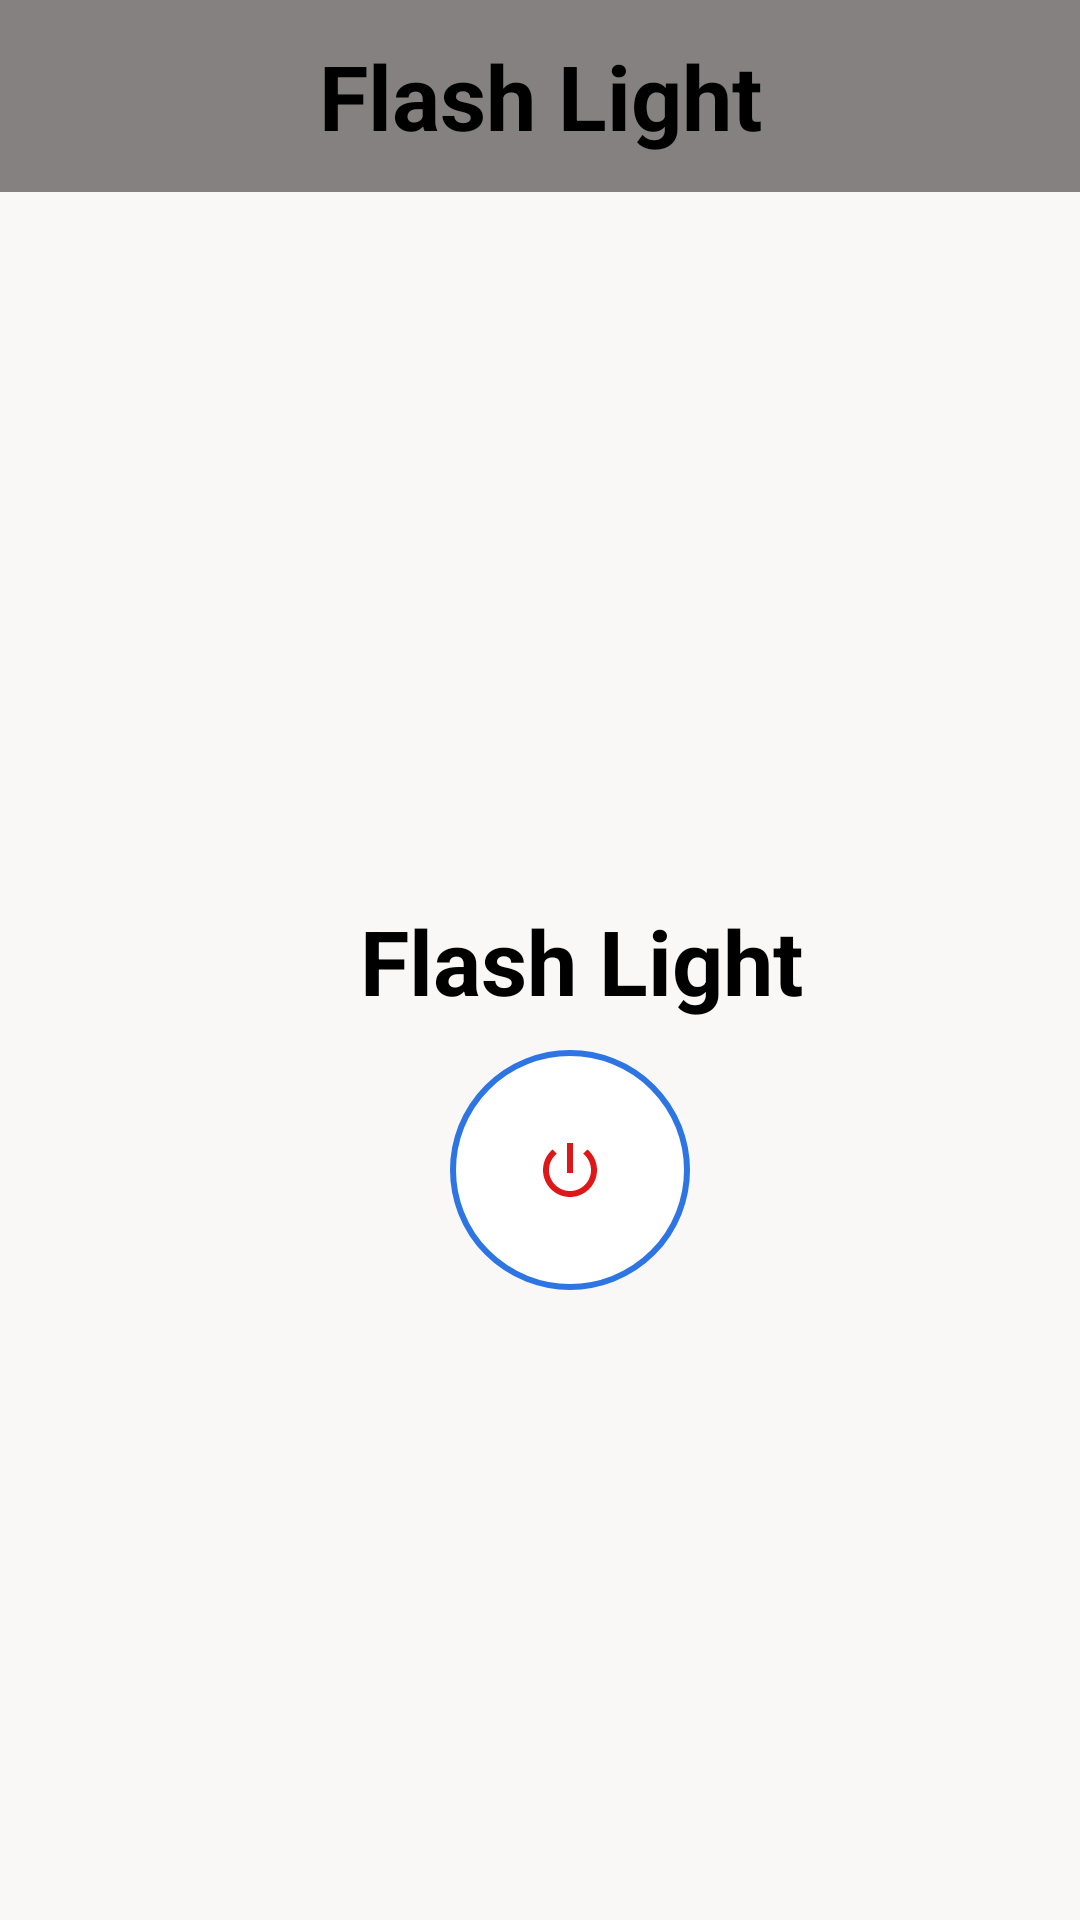

Icons on this 1080*1920 Android screen, each with the point to tap as [x,y]:
powerofficon: [570,1170]
